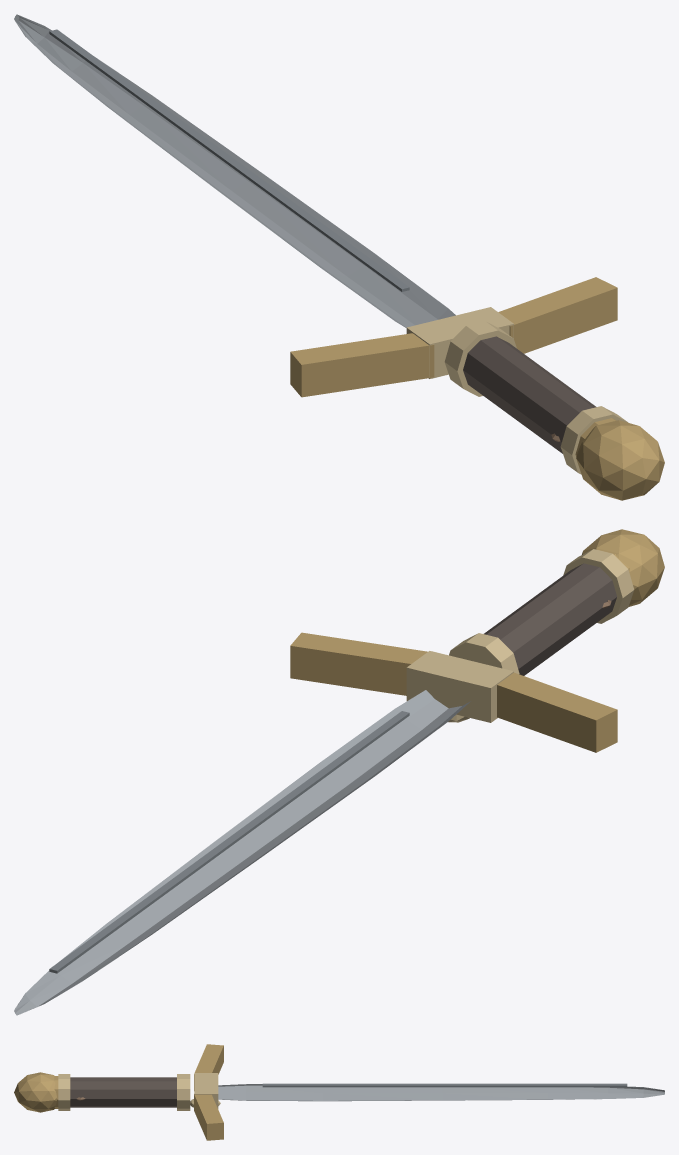
File: sword.glb
3 views of the same model, one above another, from view 1: azimuth 30°, elevation 25°; view 2: azimuth 150°, elevation 25°; view 3: azimuth 270°, elevation 25° (orthographic). The views are drawn at different scales.
Visible parts, largest first — view 1: Faceted steel blade, Dark leather grip, Left guard wing, Faceted gold pommel, Right guard wing, Blade fuller, Gold guard center, Lower gold collar, Upper gold collar; view 2: Faceted steel blade, Dark leather grip, Left guard wing, Right guard wing, Gold guard center, Blade fuller, Faceted gold pommel, Upper gold collar, Lower gold collar; view 3: Faceted steel blade, Dark leather grip, Blade fuller, Faceted gold pommel, Right guard wing, Left guard wing, Gold guard center, Lower gold collar, Upper gold collar.
Boxes of the visible parts, <box> form: Faceted steel blade: <box>14,14,455,327</box>; Dark leather grip: <box>463,336,596,453</box>; Left guard wing: <box>290,333,434,397</box>; Faceted gold pommel: <box>576,420,664,500</box>; Right guard wing: <box>498,277,617,353</box>; Blade fuller: <box>49,29,409,291</box>; Gold guard center: <box>406,307,513,378</box>; Lower gold collar: <box>444,321,516,396</box>; Upper gold collar: <box>560,406,628,474</box>; Faceted steel blade: <box>14,690,470,1015</box>; Dark leather grip: <box>484,563,616,675</box>; Left guard wing: <box>497,672,617,752</box>; Right guard wing: <box>290,632,427,695</box>; Gold guard center: <box>406,651,513,722</box>; Blade fuller: <box>49,711,409,973</box>; Faceted gold pommel: <box>582,529,664,606</box>; Upper gold collar: <box>563,549,634,623</box>; Lower gold collar: <box>449,633,519,673</box>; Faceted steel blade: <box>218,1084,664,1101</box>; Dark leather grip: <box>70,1077,176,1107</box>; Blade fuller: <box>262,1083,627,1087</box>; Faceted gold pommel: <box>14,1072,56,1112</box>; Right guard wing: <box>194,1094,223,1140</box>; Left guard wing: <box>194,1044,223,1090</box>; Gold guard center: <box>194,1073,218,1108</box>; Lower gold collar: <box>177,1074,190,1110</box>; Upper gold collar: <box>58,1074,70,1110</box>.
Size of the model in its own units: 1.42 by 0.3 by 4.91.
